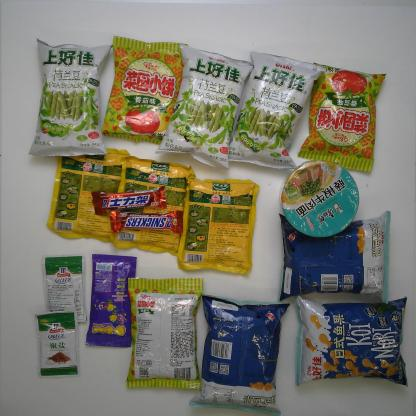Candy: (84, 246, 143, 352)
Chocolate: (92, 177, 187, 212), (106, 205, 182, 238)
Instant Noodles: (270, 160, 362, 235)
Puffed Food: (283, 291, 408, 395), (160, 40, 254, 171), (188, 293, 288, 414), (228, 47, 322, 172), (22, 30, 108, 161), (277, 210, 392, 303), (102, 16, 184, 146), (299, 59, 390, 173), (122, 273, 202, 391)
Seasoner: (180, 172, 264, 278), (48, 145, 130, 243), (117, 153, 191, 257), (23, 302, 95, 396), (42, 253, 85, 322)
